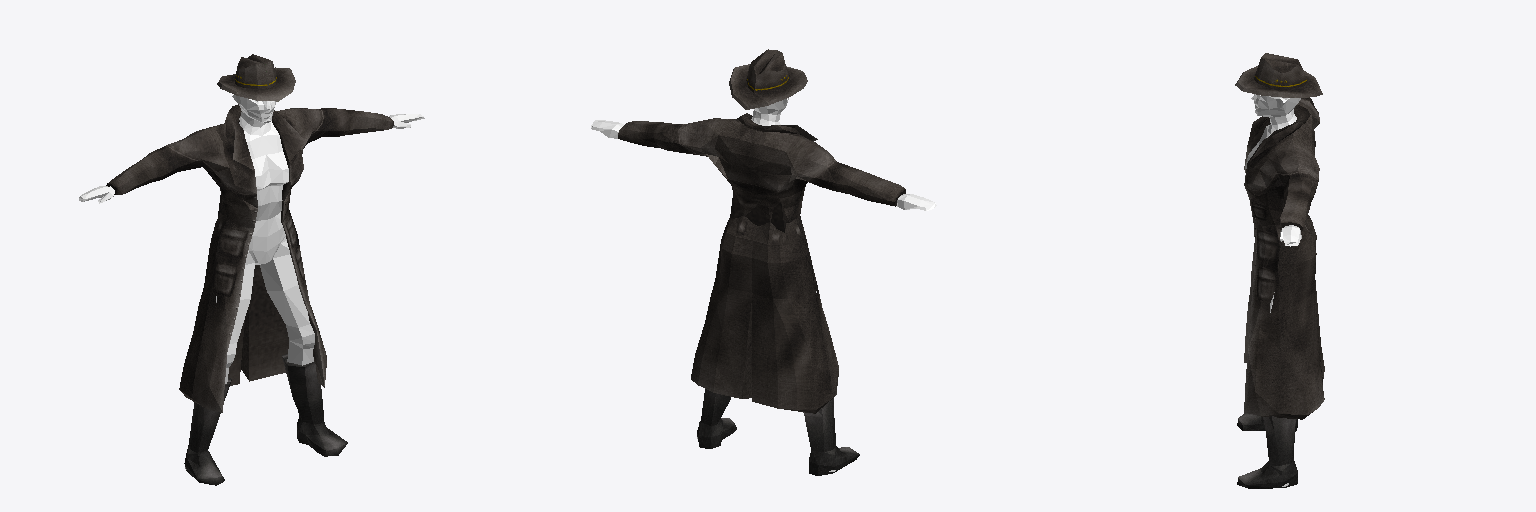
The picture shows the model from 3 angles: view 1: azimuth 30°, elevation 25°; view 2: azimuth 150°, elevation 25°; view 3: azimuth 270°, elevation 25°; orthographic projection.
Parts seen in each view (by area): view 1: Armor_Female_duster_coat, Female_body, Armor_Female_duster_lboot, Armor_Female_duster_hat, Armor_Female_duster_rboot; view 2: Armor_Female_duster_coat, Armor_Female_duster_hat, Armor_Female_duster_rboot, Armor_Female_duster_lboot, Female_body; view 3: Armor_Female_duster_coat, Armor_Female_duster_hat, Armor_Female_duster_lboot, Female_body.
Boxes of the visible parts, x1,y1,x2,y2 form: Armor_Female_duster_coat: [106, 104, 393, 412]; Female_body: [79, 95, 424, 469]; Armor_Female_duster_lboot: [282, 354, 347, 456]; Armor_Female_duster_hat: [217, 54, 295, 101]; Armor_Female_duster_rboot: [184, 377, 231, 485]; Armor_Female_duster_coat: [618, 113, 905, 413]; Armor_Female_duster_hat: [729, 49, 807, 109]; Armor_Female_duster_rboot: [803, 398, 859, 475]; Armor_Female_duster_lboot: [697, 389, 736, 448]; Female_body: [591, 98, 936, 471]; Armor_Female_duster_coat: [1244, 97, 1324, 419]; Armor_Female_duster_hat: [1235, 53, 1322, 97]; Armor_Female_duster_lboot: [1237, 416, 1297, 488]; Female_body: [1245, 94, 1301, 486].
Bounding box in the file's own units: 88.8 × 98.81 × 20.16.
4 materials, 2 textured.